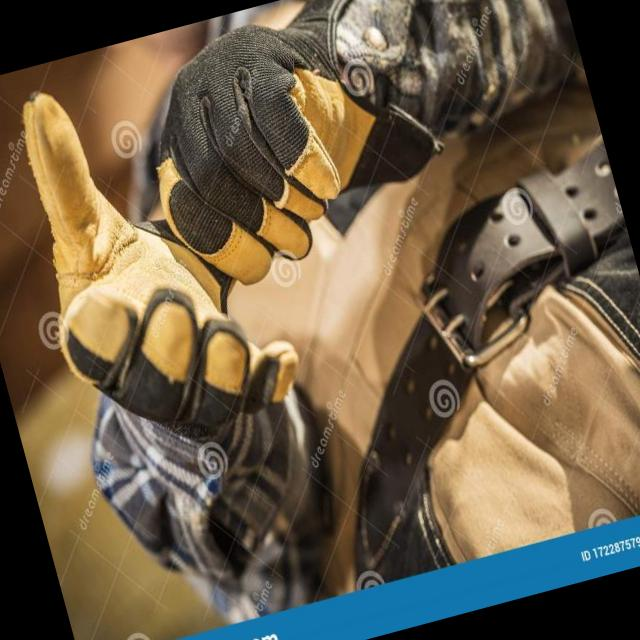Gloves: (0, 40, 320, 467), (124, 2, 418, 294)
